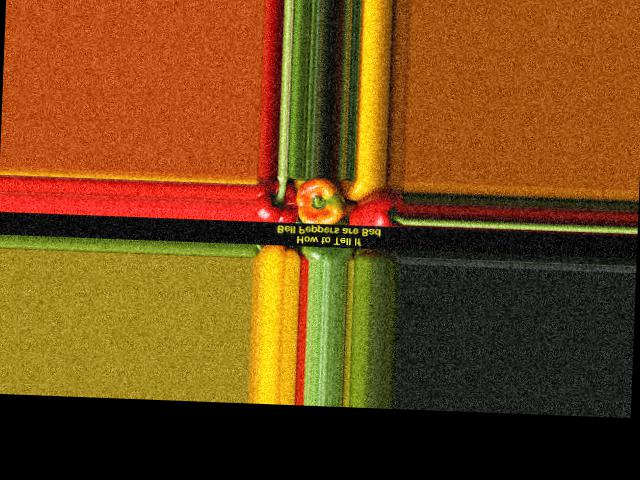bell_pepper: (256, 175, 301, 226)
